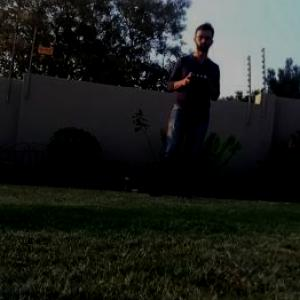follow: (141, 16, 223, 203)
